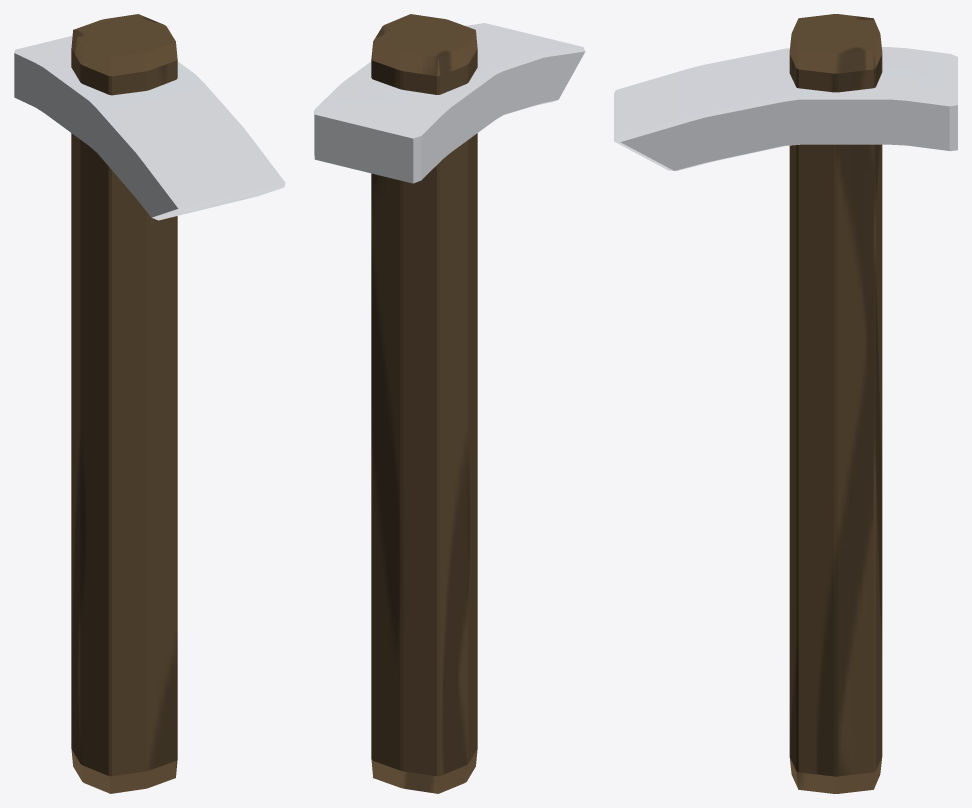
The model's file is item-hoe.glb.
3 renders of one model, left to right at view 1: azimuth 30°, elevation 25°; view 2: azimuth 150°, elevation 25°; view 3: azimuth 270°, elevation 25°, orthographic.
Size of the model in its own units: 0.1103 by 0.7352 by 0.3056.
Materials: 2 (1 with a texture image).
